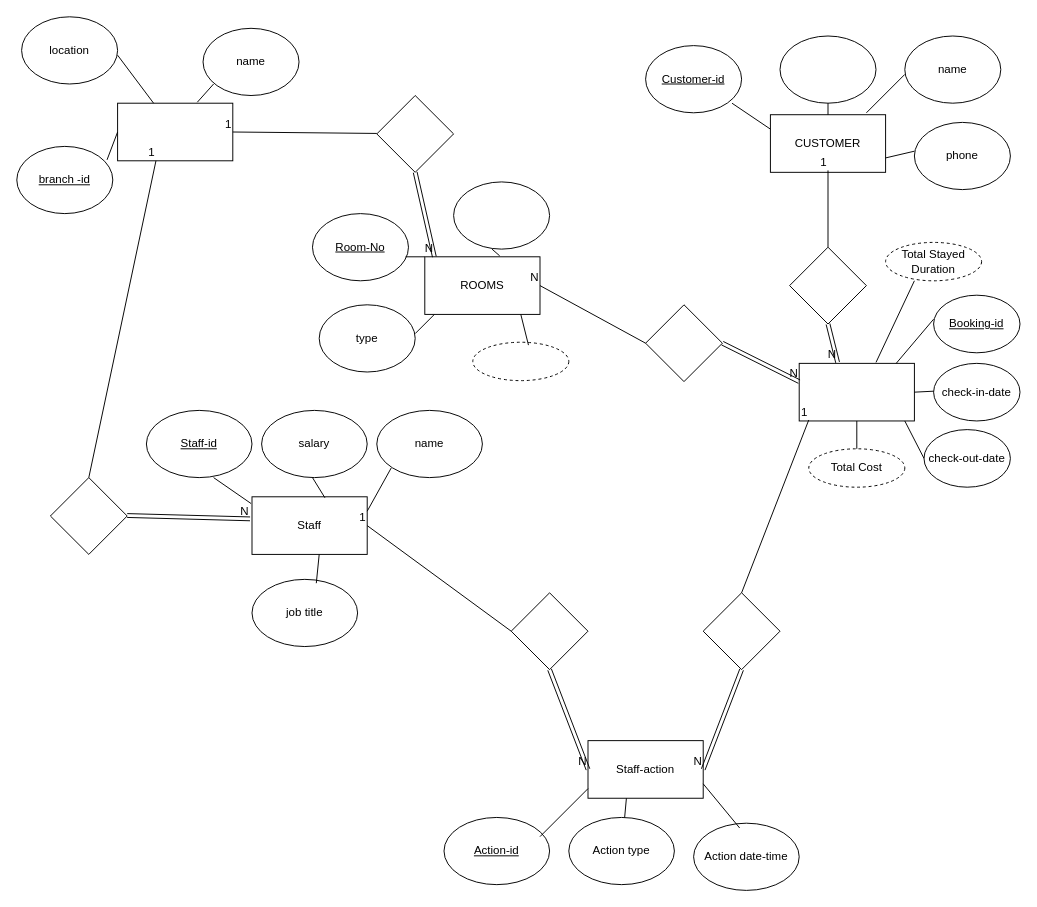
The diagram is 1037 pixels wide and 907 high, and some of its shapes have lost their labels. Each missing label, with the centre of its shape:
assigned: (88,515)
BOOKING: (856,391)
BRANCH: (175,131)
email: (827,69)
handels: (549,631)
has: (415,133)
includes: (683,343)
makes: (827,285)
nightly rate: (501,215)
perform: (741,631)
Room availability: (520,361)
